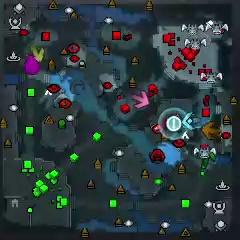Other: (167, 116, 182, 132)
p3: (25, 55, 40, 75)
x1: (132, 91, 149, 109)
x2: (30, 44, 45, 63)
x3: (183, 111, 199, 130)
x4: (198, 149, 216, 168)
x5: (201, 122, 220, 139)
